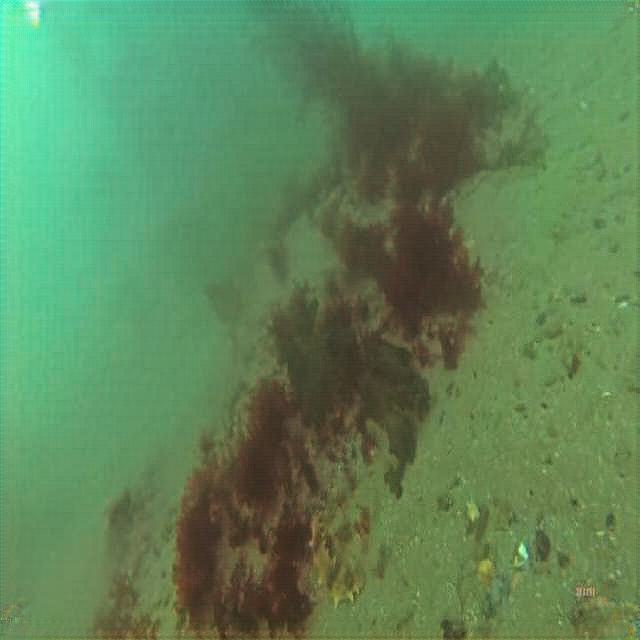holothurian: (332, 542, 374, 607), (308, 507, 338, 591)
